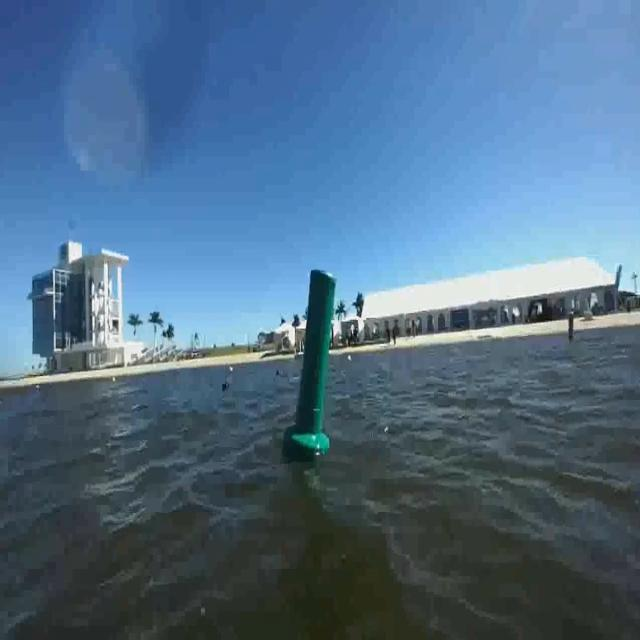green-column-buoy: (287, 265, 334, 457)
